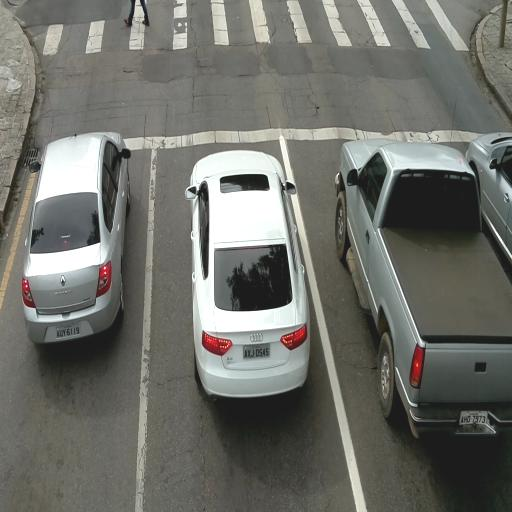car: (331, 130, 509, 446), (186, 149, 308, 400), (20, 130, 131, 344), (465, 131, 512, 289)
